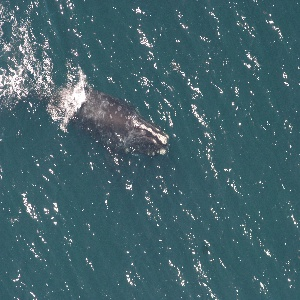cetacean: (38, 82, 167, 157)
